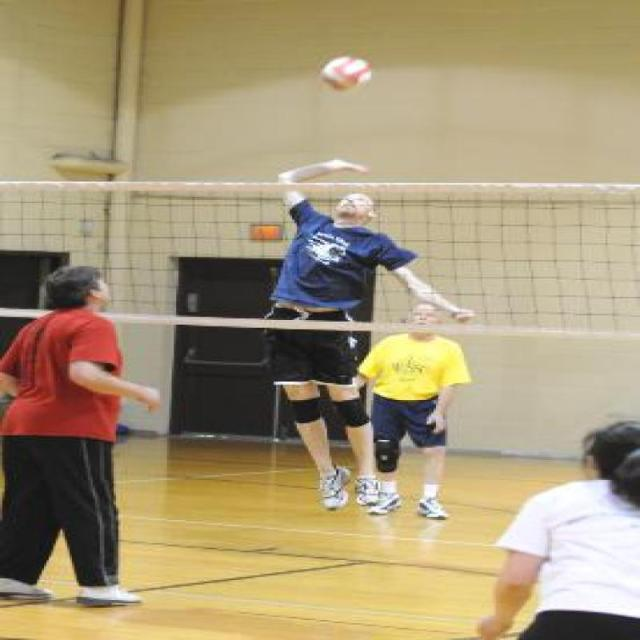volleyball: (315, 56, 371, 90)
